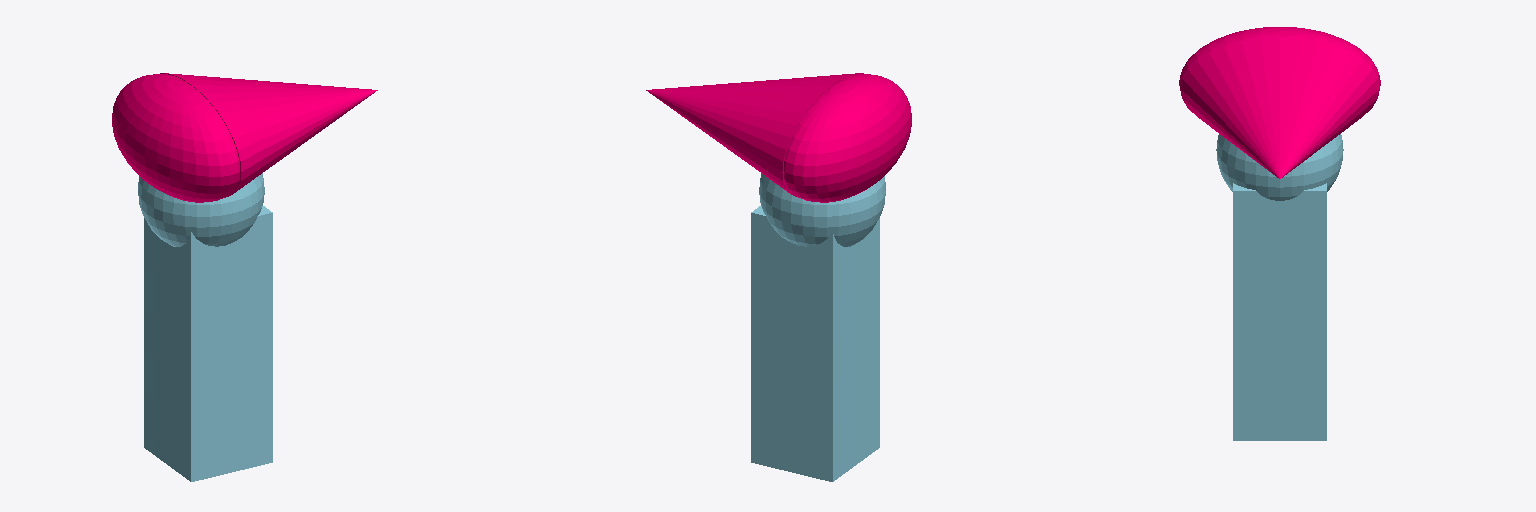
3 views of the same model, side by side, from view 1: azimuth 30°, elevation 25°; view 2: azimuth 150°, elevation 25°; view 3: azimuth 270°, elevation 25° (orthographic).
Visible parts, largest first — view 1: 立方體.002, 球體, 圓錐體, 球體.001_球體.002; view 2: 立方體.002, 球體, 圓錐體, 球體.001_球體.002; view 3: 立方體.002, 圓錐體, 球體.001_球體.002, 球體.
Part boxes in pixels (left/top/right/bottom): 立方體.002: left=144, top=206, right=272, bottom=481; 球體: left=112, top=74, right=239, bottom=202; 圓錐體: left=160, top=73, right=377, bottom=197; 球體.001_球體.002: left=138, top=173, right=264, bottom=246; 立方體.002: left=751, top=206, right=879, bottom=481; 球體: left=784, top=74, right=911, bottom=202; 圓錐體: left=646, top=73, right=863, bottom=197; 球體.001_球體.002: left=759, top=173, right=885, bottom=246; 立方體.002: left=1233, top=183, right=1326, bottom=440; 圓錐體: left=1180, top=38, right=1379, bottom=178; 球體.001_球體.002: left=1216, top=134, right=1343, bottom=200; 球體: left=1179, top=27, right=1380, bottom=85.
Size of the model in its own units: 1.23 by 1.81 by 0.8813.
Materials: 4 (1 with a texture image).